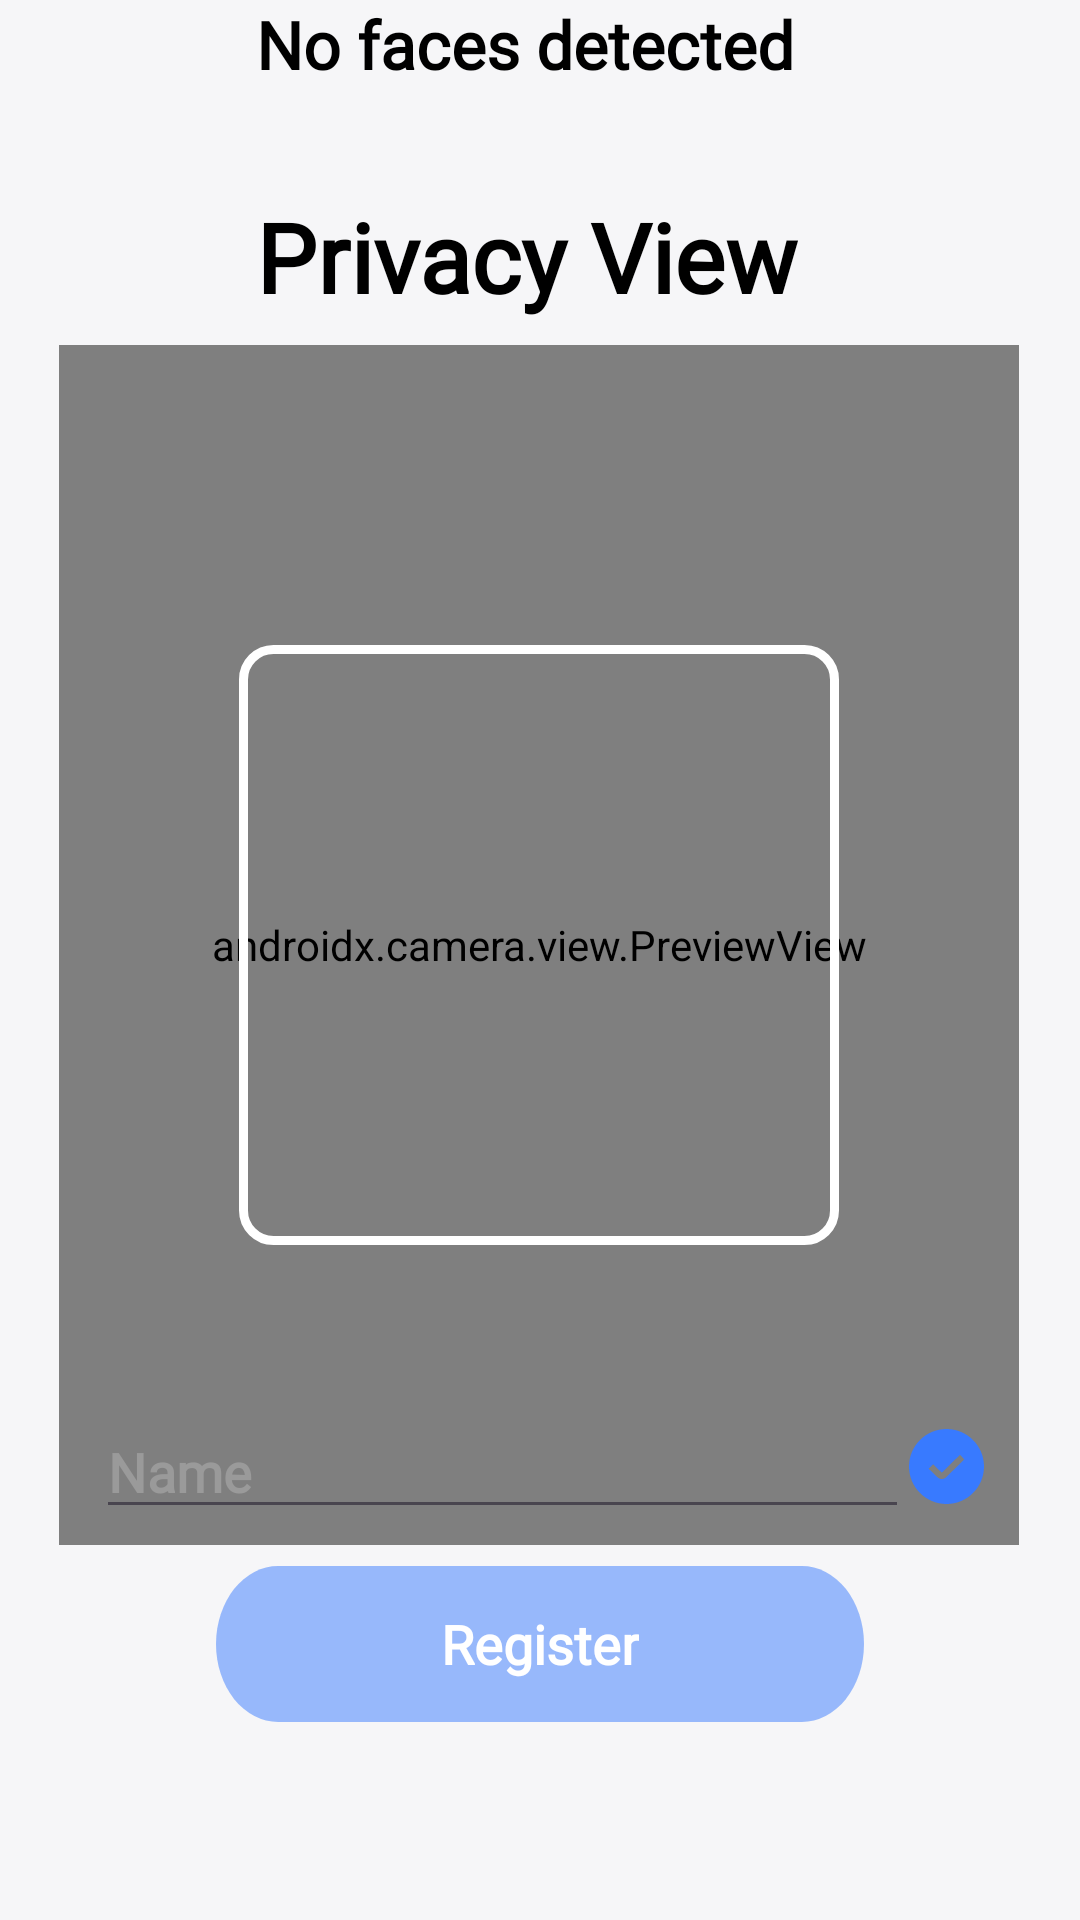

Icons on this 1080*1920 Android screen, each with the point to tap as point (x, y):
check circle: point (946, 1466)
